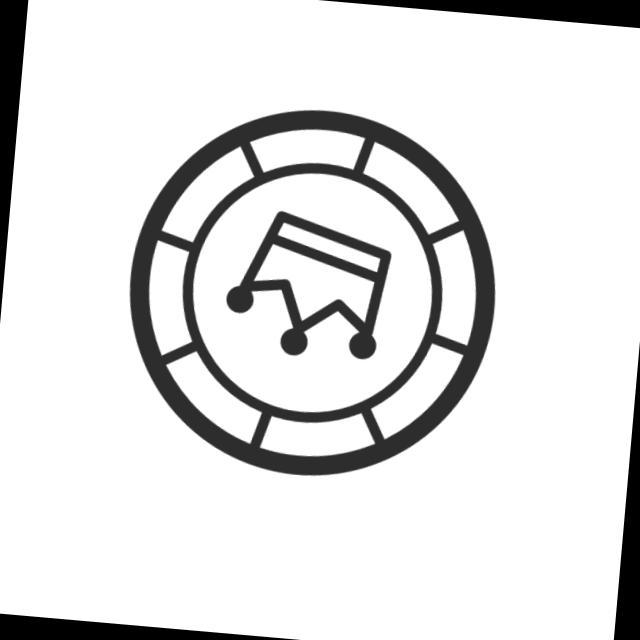coin: (107, 85, 517, 500)
